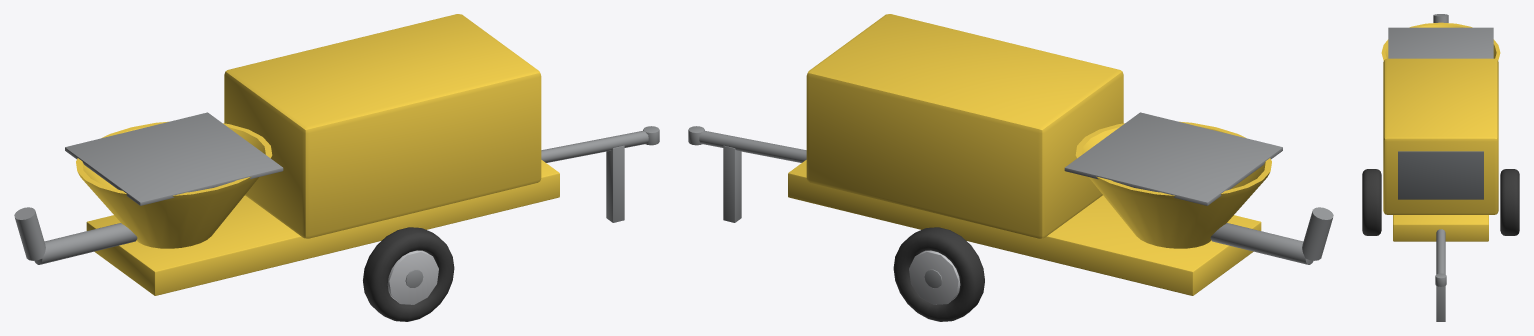
Rendered from EQP-CON-007_anim.glb.
The picture shows the model from 3 angles, left to right: view 1: azimuth 30°, elevation 25°; view 2: azimuth 150°, elevation 25°; view 3: azimuth 270°, elevation 25°; orthographic projection. The views are drawn at different scales.
Parts seen in each view (by area): view 1: EQP-CON-007_anim2, EQP-CON-007_anim3; view 2: EQP-CON-007_anim2, EQP-CON-007_anim3; view 3: EQP-CON-007_anim2, EQP-CON-007_anim3.
Boxes of the visible parts, x1,y1,x2,y2 form: EQP-CON-007_anim2: (224,14,541,238); EQP-CON-007_anim3: (14,112,659,321); EQP-CON-007_anim2: (806,14,1123,238); EQP-CON-007_anim3: (688,112,1333,321); EQP-CON-007_anim2: (1383,58,1498,214); EQP-CON-007_anim3: (1362,14,1519,321).
Bounding box in the file's own units: 5.38 × 1.65 × 1.64.
